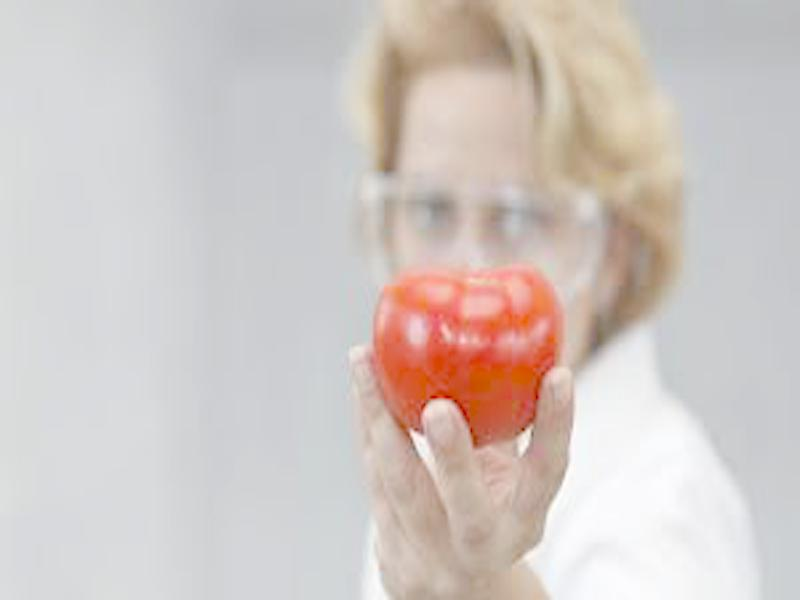Tomato: (373, 268, 568, 443)
